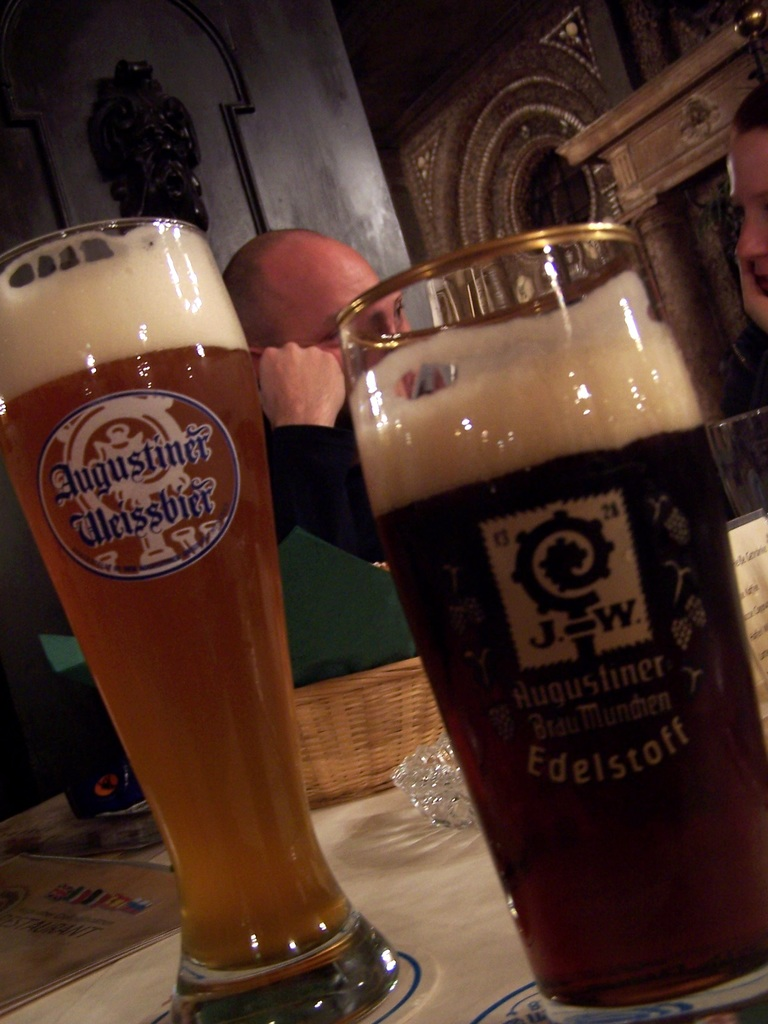Beer: (0, 219, 355, 984)
